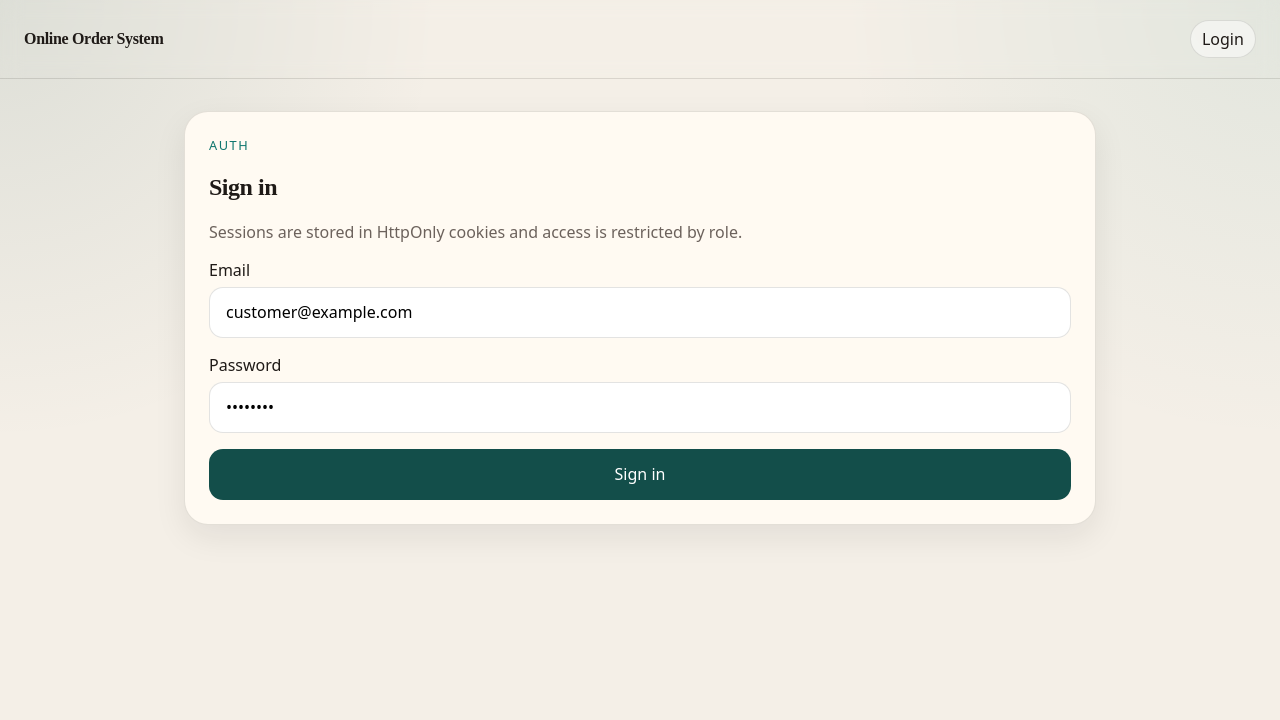
Test case: auth app shell › shows an inline error for invalid credentials without redirecting
The image size is (1280, 720).
expect the heading "Sign in" is shown: met, box 209,174 -> 277,200
Click the button "Sign in" at (640, 474), box 209,449 -> 1071,500
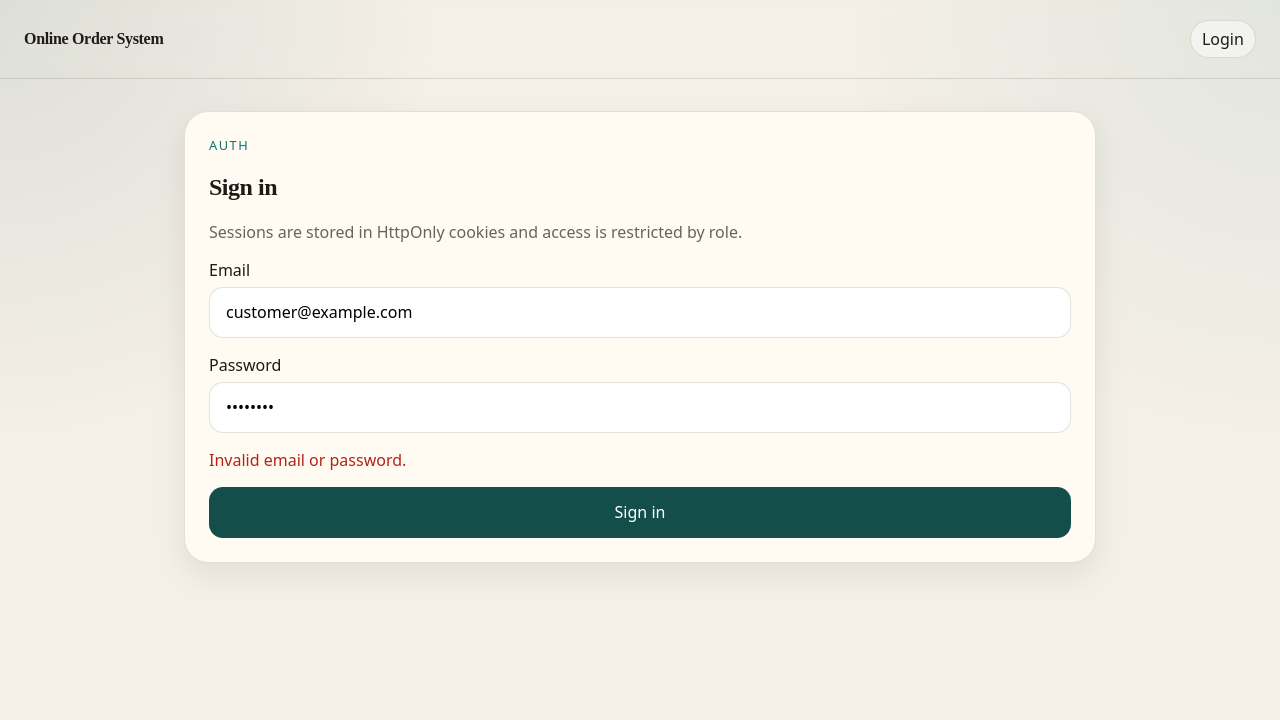
expect the heading "Sign in" is shown: met, box 209,174 -> 277,200
expect the text "Invalid email or password." is shown: met, box 209,449 -> 406,471
